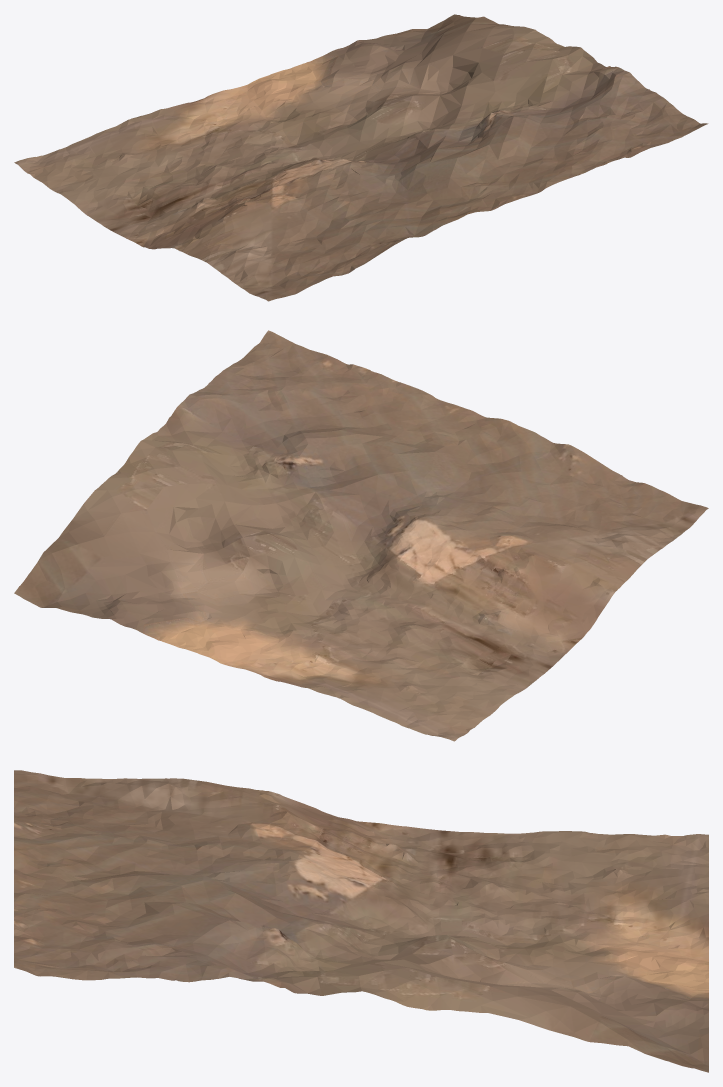
3 views of the same model, one above another, from view 1: azimuth 30°, elevation 25°; view 2: azimuth 150°, elevation 25°; view 3: azimuth 270°, elevation 25° (orthographic). The views are drawn at different scales.
Bounding box in the file's own units: 1.04 × 0.2696 × 1.04.
Materials: 3 (3 with a texture image).
